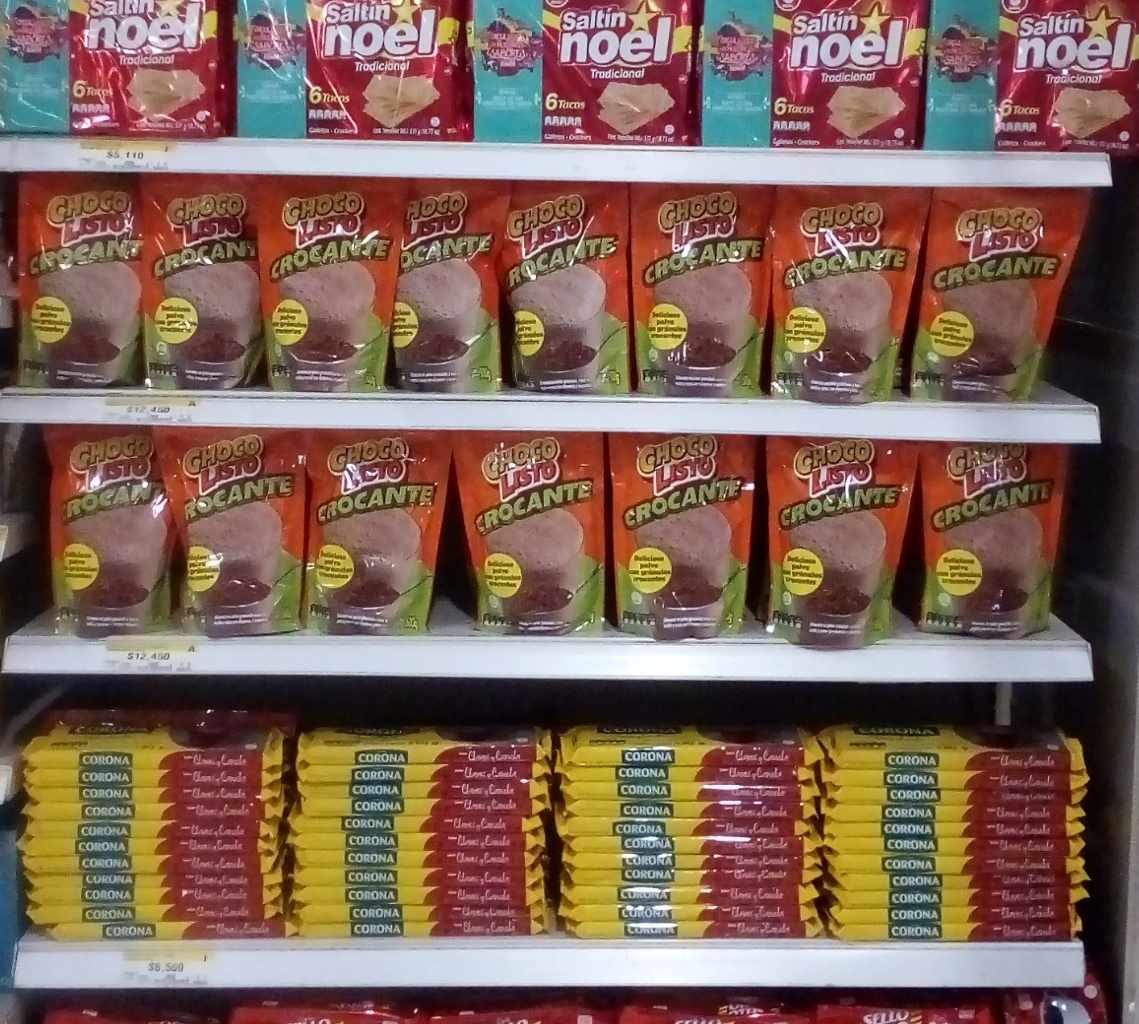COL0170102DYP50000: (20, 170, 140, 385)
